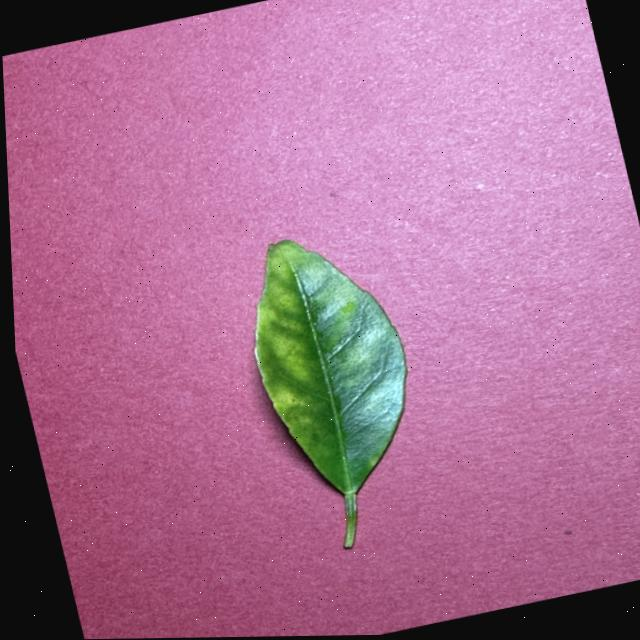greening: (255, 240, 406, 547)
